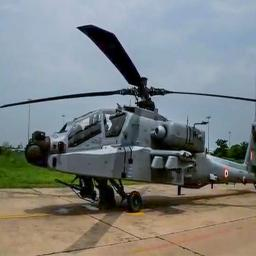helicopter: (13, 37, 256, 218)
